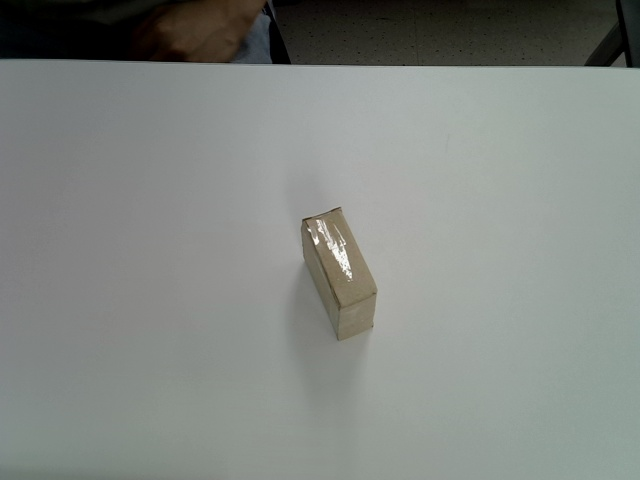normal: (301, 207, 377, 343)
